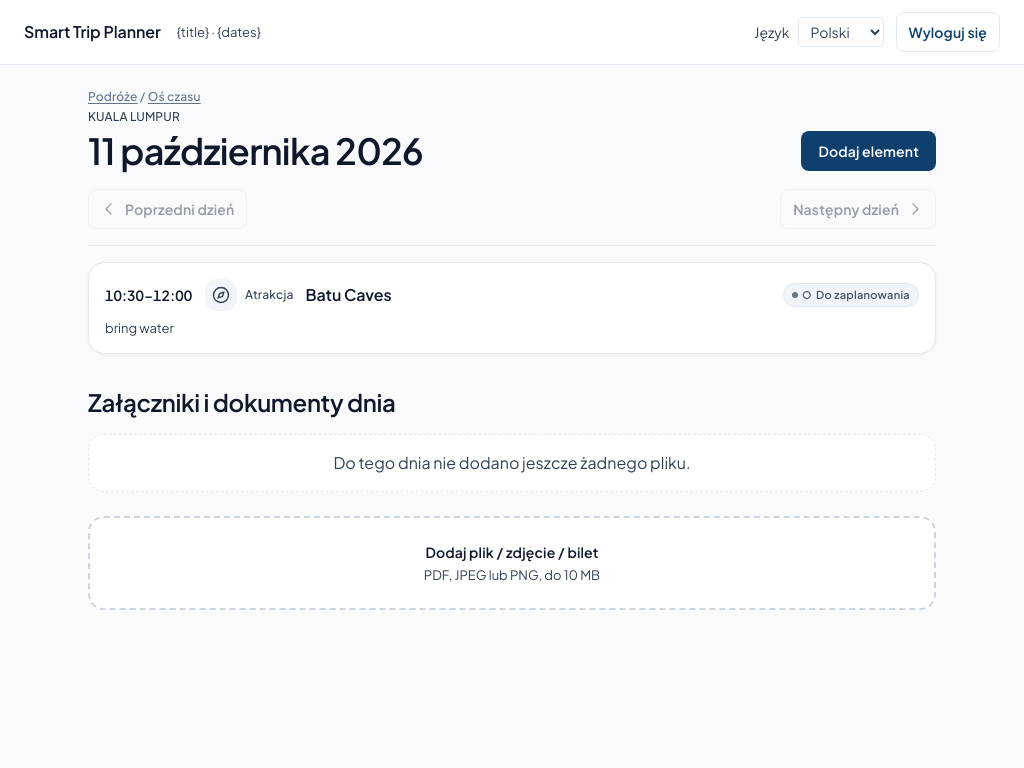
Scenario: the reservation panel wired into the real item editor › defaults the currency field to PLN on a fresh item
Check: the text "Batu Caves" is shown, box [306,284,392,305]
Click the button "Dodaj element" at (869, 151), box [801,131,936,171]
(page scrolled)
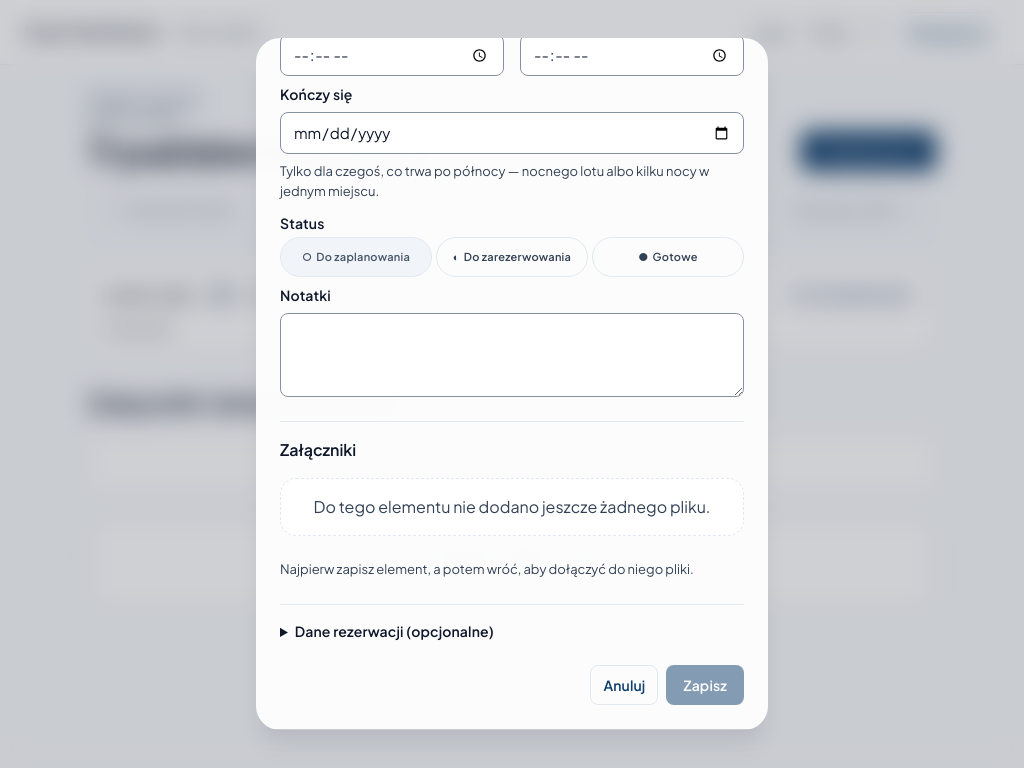
Click the heading "Dane rezerwacji (opcjonalne)" at (394, 631), box [295,622,494,640]
(page scrolled)
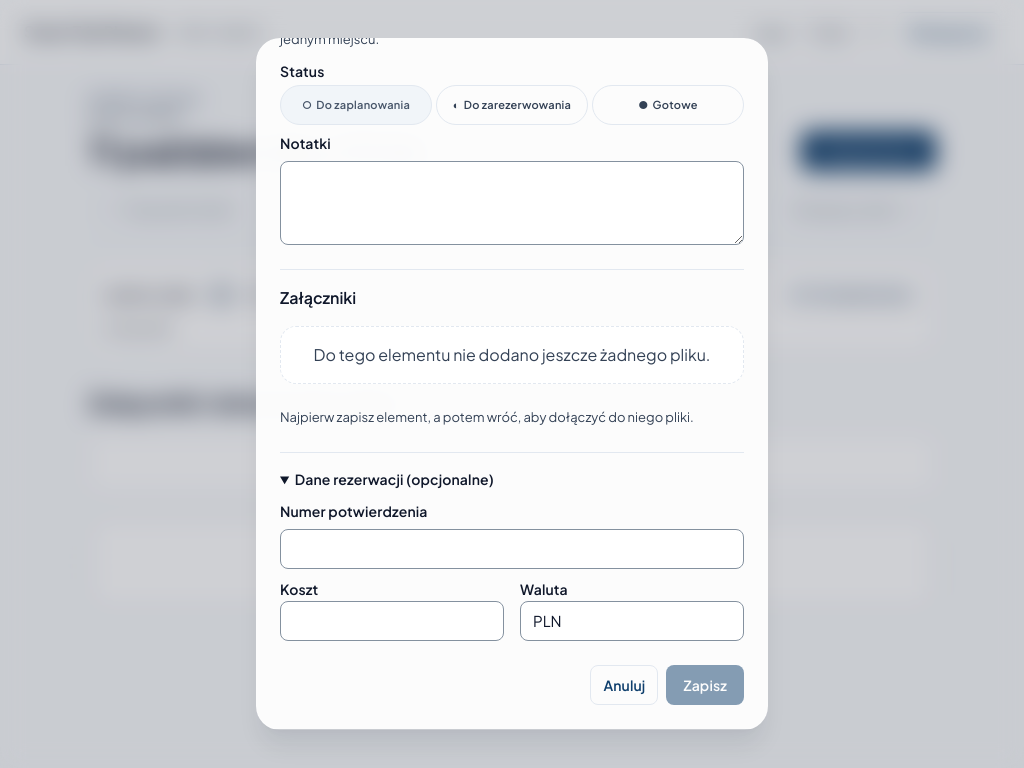
Check: the field labelled "Waluta" holds "PLN", box [520,601,744,641]
